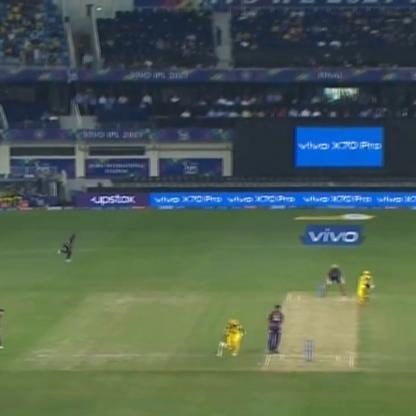pitch: (263, 289, 359, 371)
